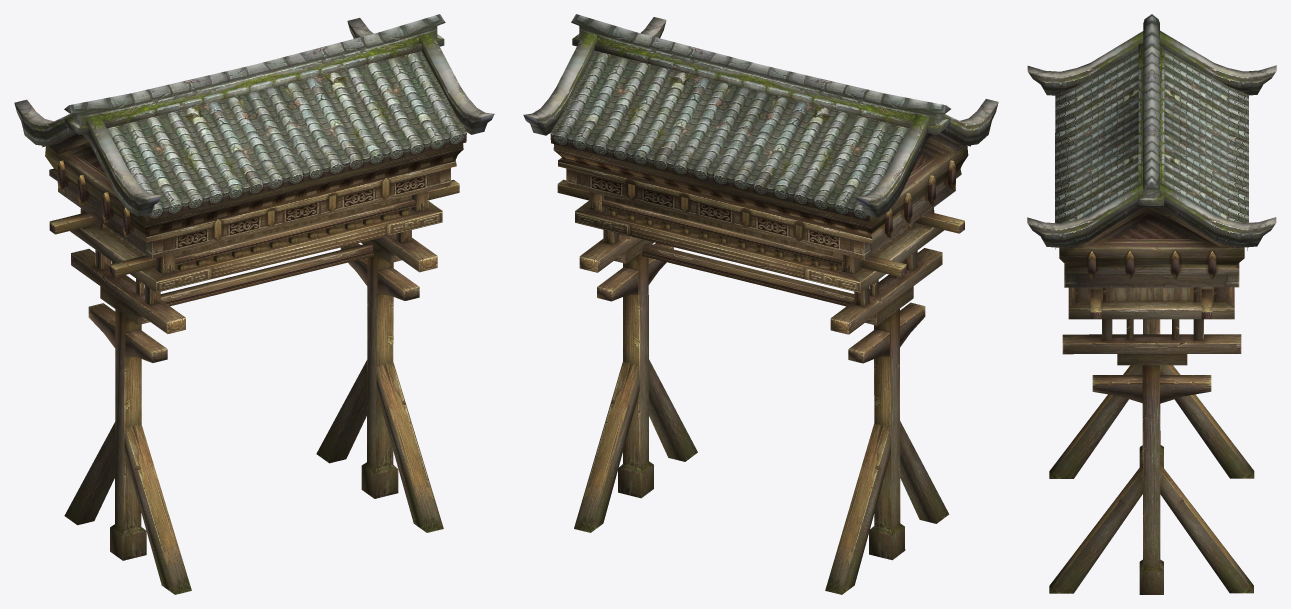
File: C5_Build_1.FBX
3 views of the same model, side by side, from view 1: azimuth 30°, elevation 25°; view 2: azimuth 150°, elevation 25°; view 3: azimuth 270°, elevation 25° (orthographic). The views are drawn at different scales.
Parts seen in each view (by area): view 1: C5_Build_1; view 2: C5_Build_1; view 3: C5_Build_1.
Boxes of the visible parts, x1,y1,x2,y2 form: C5_Build_1: [14, 14, 494, 594]; C5_Build_1: [523, 14, 998, 594]; C5_Build_1: [1027, 14, 1276, 594].
Bounding box in the file's own units: 913 × 1081 × 562.
